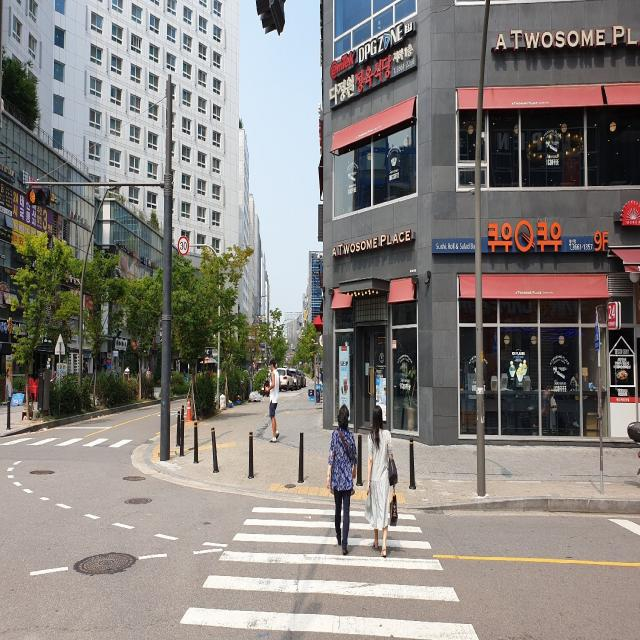횡단보도: (177, 502, 484, 640), (0, 429, 145, 458)
